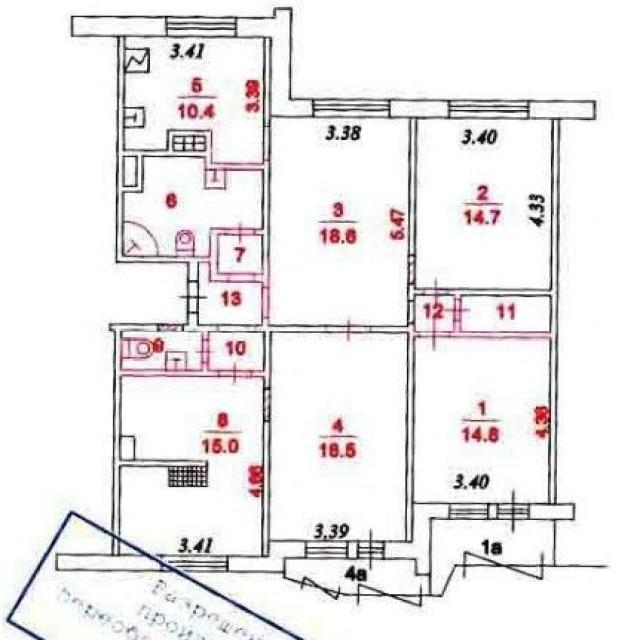Bathrooms: (126, 158, 261, 255), (123, 332, 201, 369)
Corridors: (199, 263, 262, 323), (463, 296, 548, 329), (211, 332, 262, 369), (219, 236, 259, 271), (416, 296, 452, 329)
Doors: (499, 489, 528, 535), (419, 316, 451, 353), (360, 528, 386, 571), (326, 317, 371, 341), (177, 281, 208, 312), (217, 361, 253, 385), (423, 275, 449, 306), (227, 218, 253, 244), (444, 298, 471, 321), (194, 339, 218, 363), (216, 323, 257, 332), (263, 387, 271, 422), (407, 254, 416, 284), (228, 272, 255, 282), (262, 287, 270, 319), (263, 126, 270, 160), (408, 299, 415, 323)
LBwalls: (239, 6, 311, 117), (384, 503, 449, 561), (229, 540, 305, 573), (71, 15, 166, 37), (56, 554, 160, 572), (529, 99, 597, 120), (390, 98, 448, 119), (529, 504, 575, 520), (348, 539, 359, 560), (488, 503, 498, 520)
Offices: (272, 118, 407, 324), (273, 334, 405, 540), (121, 377, 262, 554), (418, 120, 549, 288), (416, 338, 547, 502), (127, 39, 263, 163)
Walls: (449, 119, 561, 503), (116, 37, 270, 287), (108, 313, 217, 555), (371, 322, 421, 542), (252, 319, 326, 387), (408, 120, 416, 253), (263, 422, 270, 555), (263, 38, 270, 124), (407, 285, 424, 299)
Windows: (447, 97, 530, 121), (164, 15, 238, 38), (312, 98, 391, 118), (161, 554, 229, 573), (305, 540, 348, 560), (448, 503, 488, 521)
